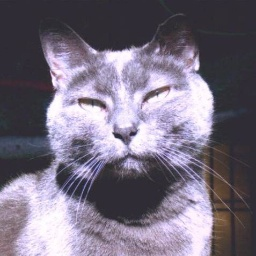cat: (2, 12, 214, 253)
